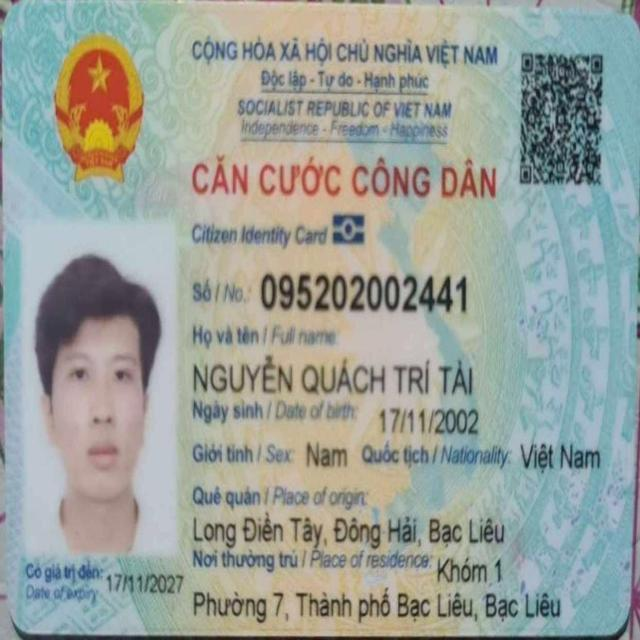current_place: (189, 586, 564, 628), (434, 552, 505, 588)
dob: (377, 402, 481, 440)
expire_date: (104, 567, 186, 598)
gender: (302, 435, 350, 472)
id: (255, 266, 471, 319)
name: (189, 351, 476, 402)
nationality: (517, 437, 604, 477)
origin_place: (189, 509, 508, 551)
